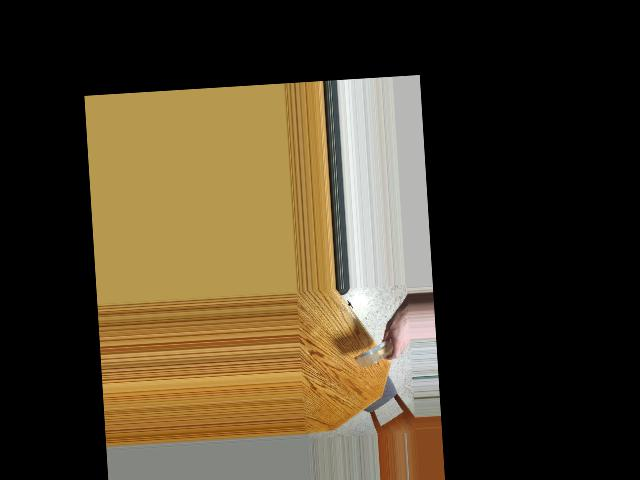cheese: (351, 340, 399, 367)
